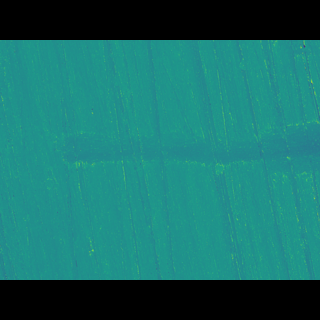Loch: (54, 129, 319, 174)
